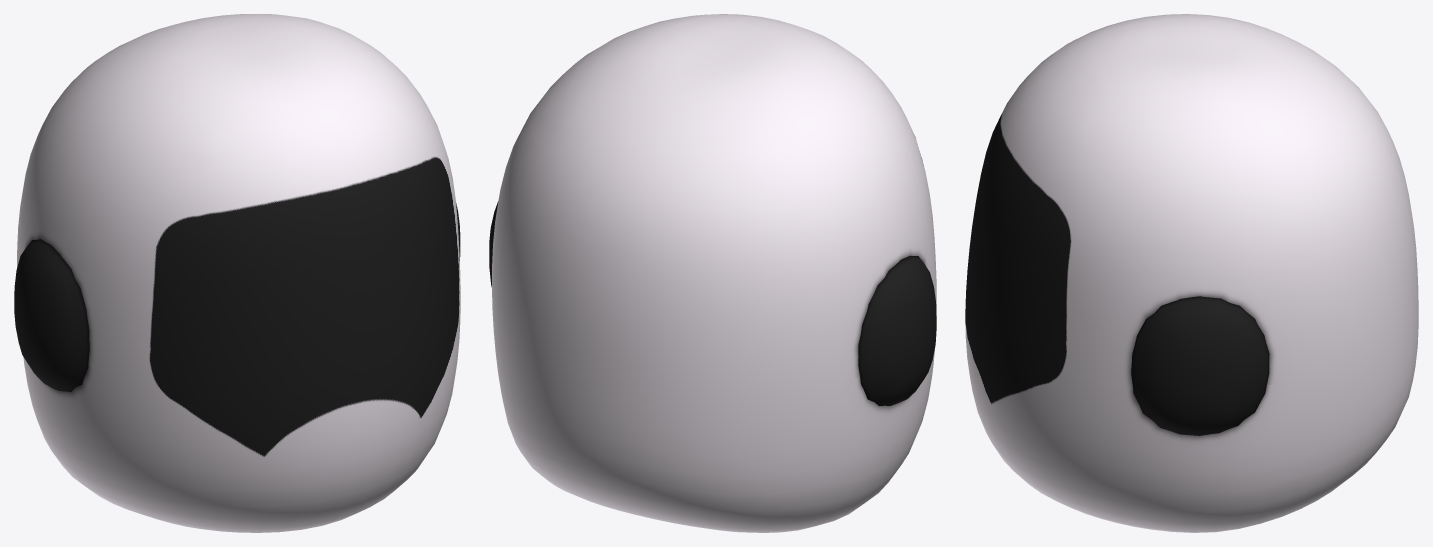
Rendered from mascot-rocketman.fbx.
The picture shows the model from 3 angles, left to right: view 1: azimuth 30°, elevation 25°; view 2: azimuth 150°, elevation 25°; view 3: azimuth 270°, elevation 25°; orthographic projection.
Visible parts, largest first — view 1: RocketMan:Mesh; view 2: RocketMan:Mesh; view 3: RocketMan:Mesh.
Part boxes in pixels (left/top/right/bottom): RocketMan:Mesh: left=14, top=14, right=460, bottom=532; RocketMan:Mesh: left=489, top=14, right=936, bottom=532; RocketMan:Mesh: left=965, top=14, right=1418, bottom=532.
Bounding box in the file's own units: 2.11 × 2.13 × 1.99.
1 material, 1 textured.
